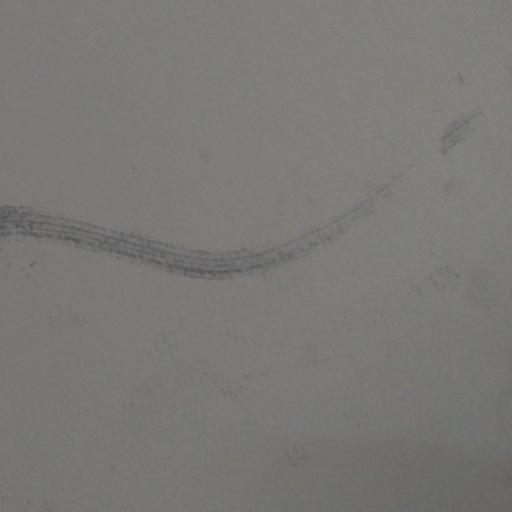stain: (0, 146, 415, 313), (214, 333, 379, 411), (426, 95, 505, 179), (416, 255, 512, 324), (270, 431, 316, 474), (447, 56, 474, 84)
